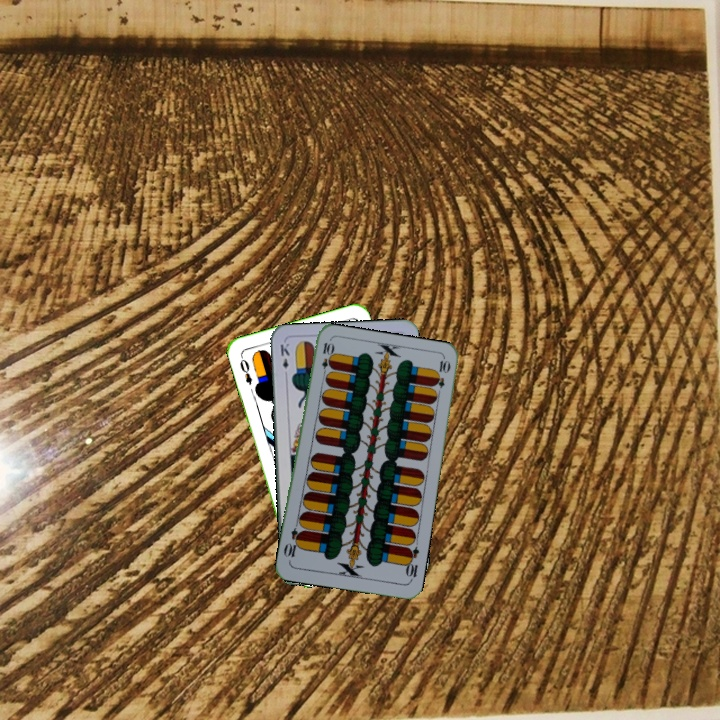E10: (401, 543, 421, 584), (317, 339, 334, 379)
EK: (276, 339, 292, 380)
EO: (236, 352, 255, 387)
